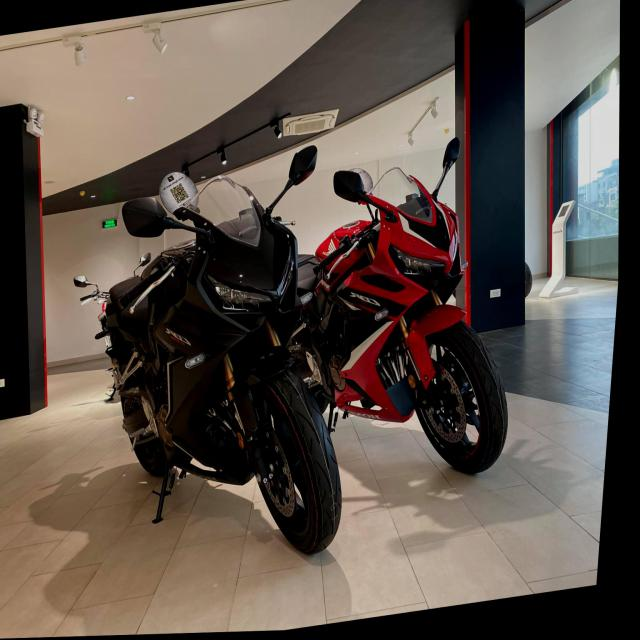CBR650R: (80, 141, 373, 588), (305, 154, 534, 496)
